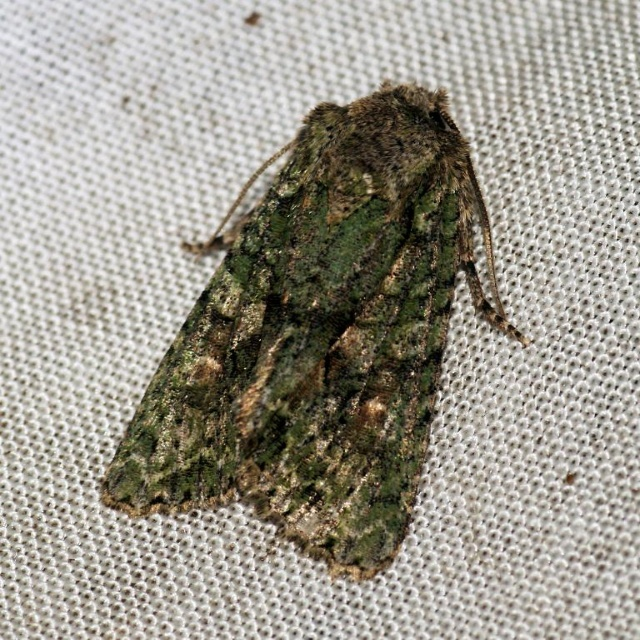Moths and butterflies: (96, 80, 537, 581)
